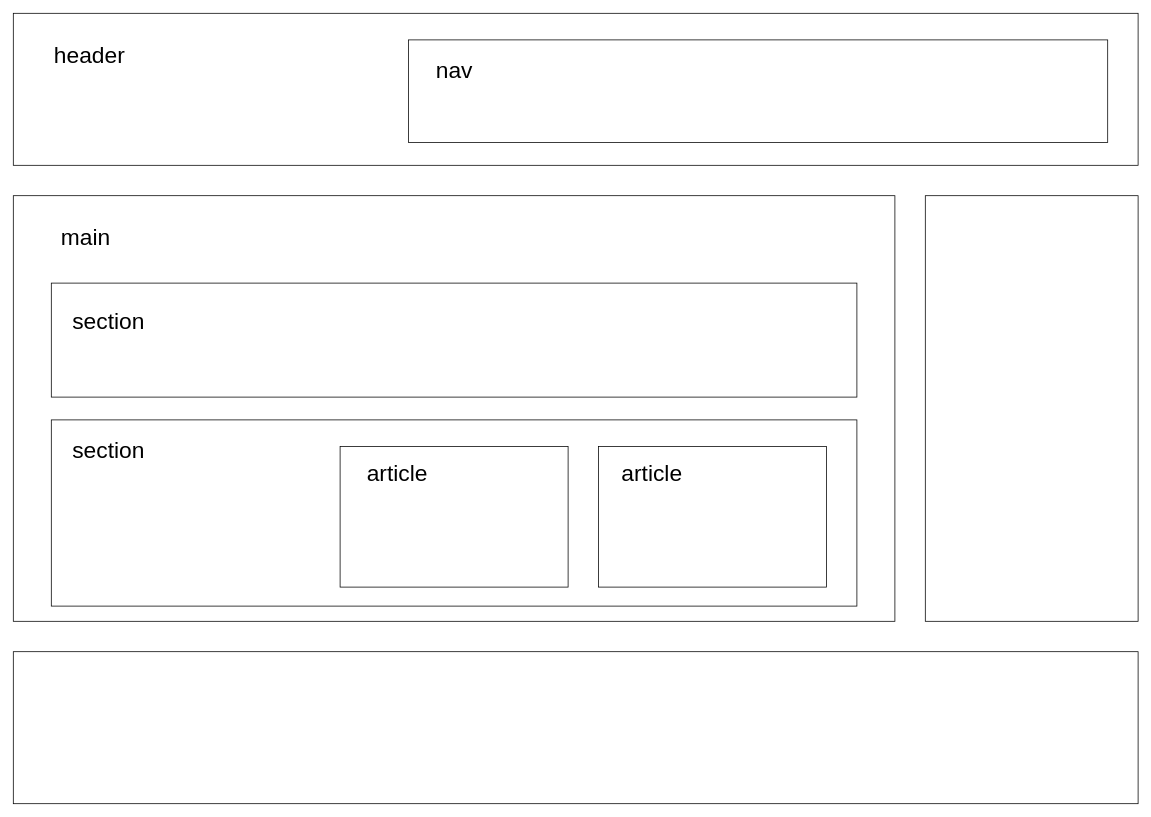
This 1151x817 diagram has some shape labels left out. Here are the shapes that lost their labels. From the top down, the centre of each, then its label:
the point at 1031,408: aside
the point at 575,727: footer
